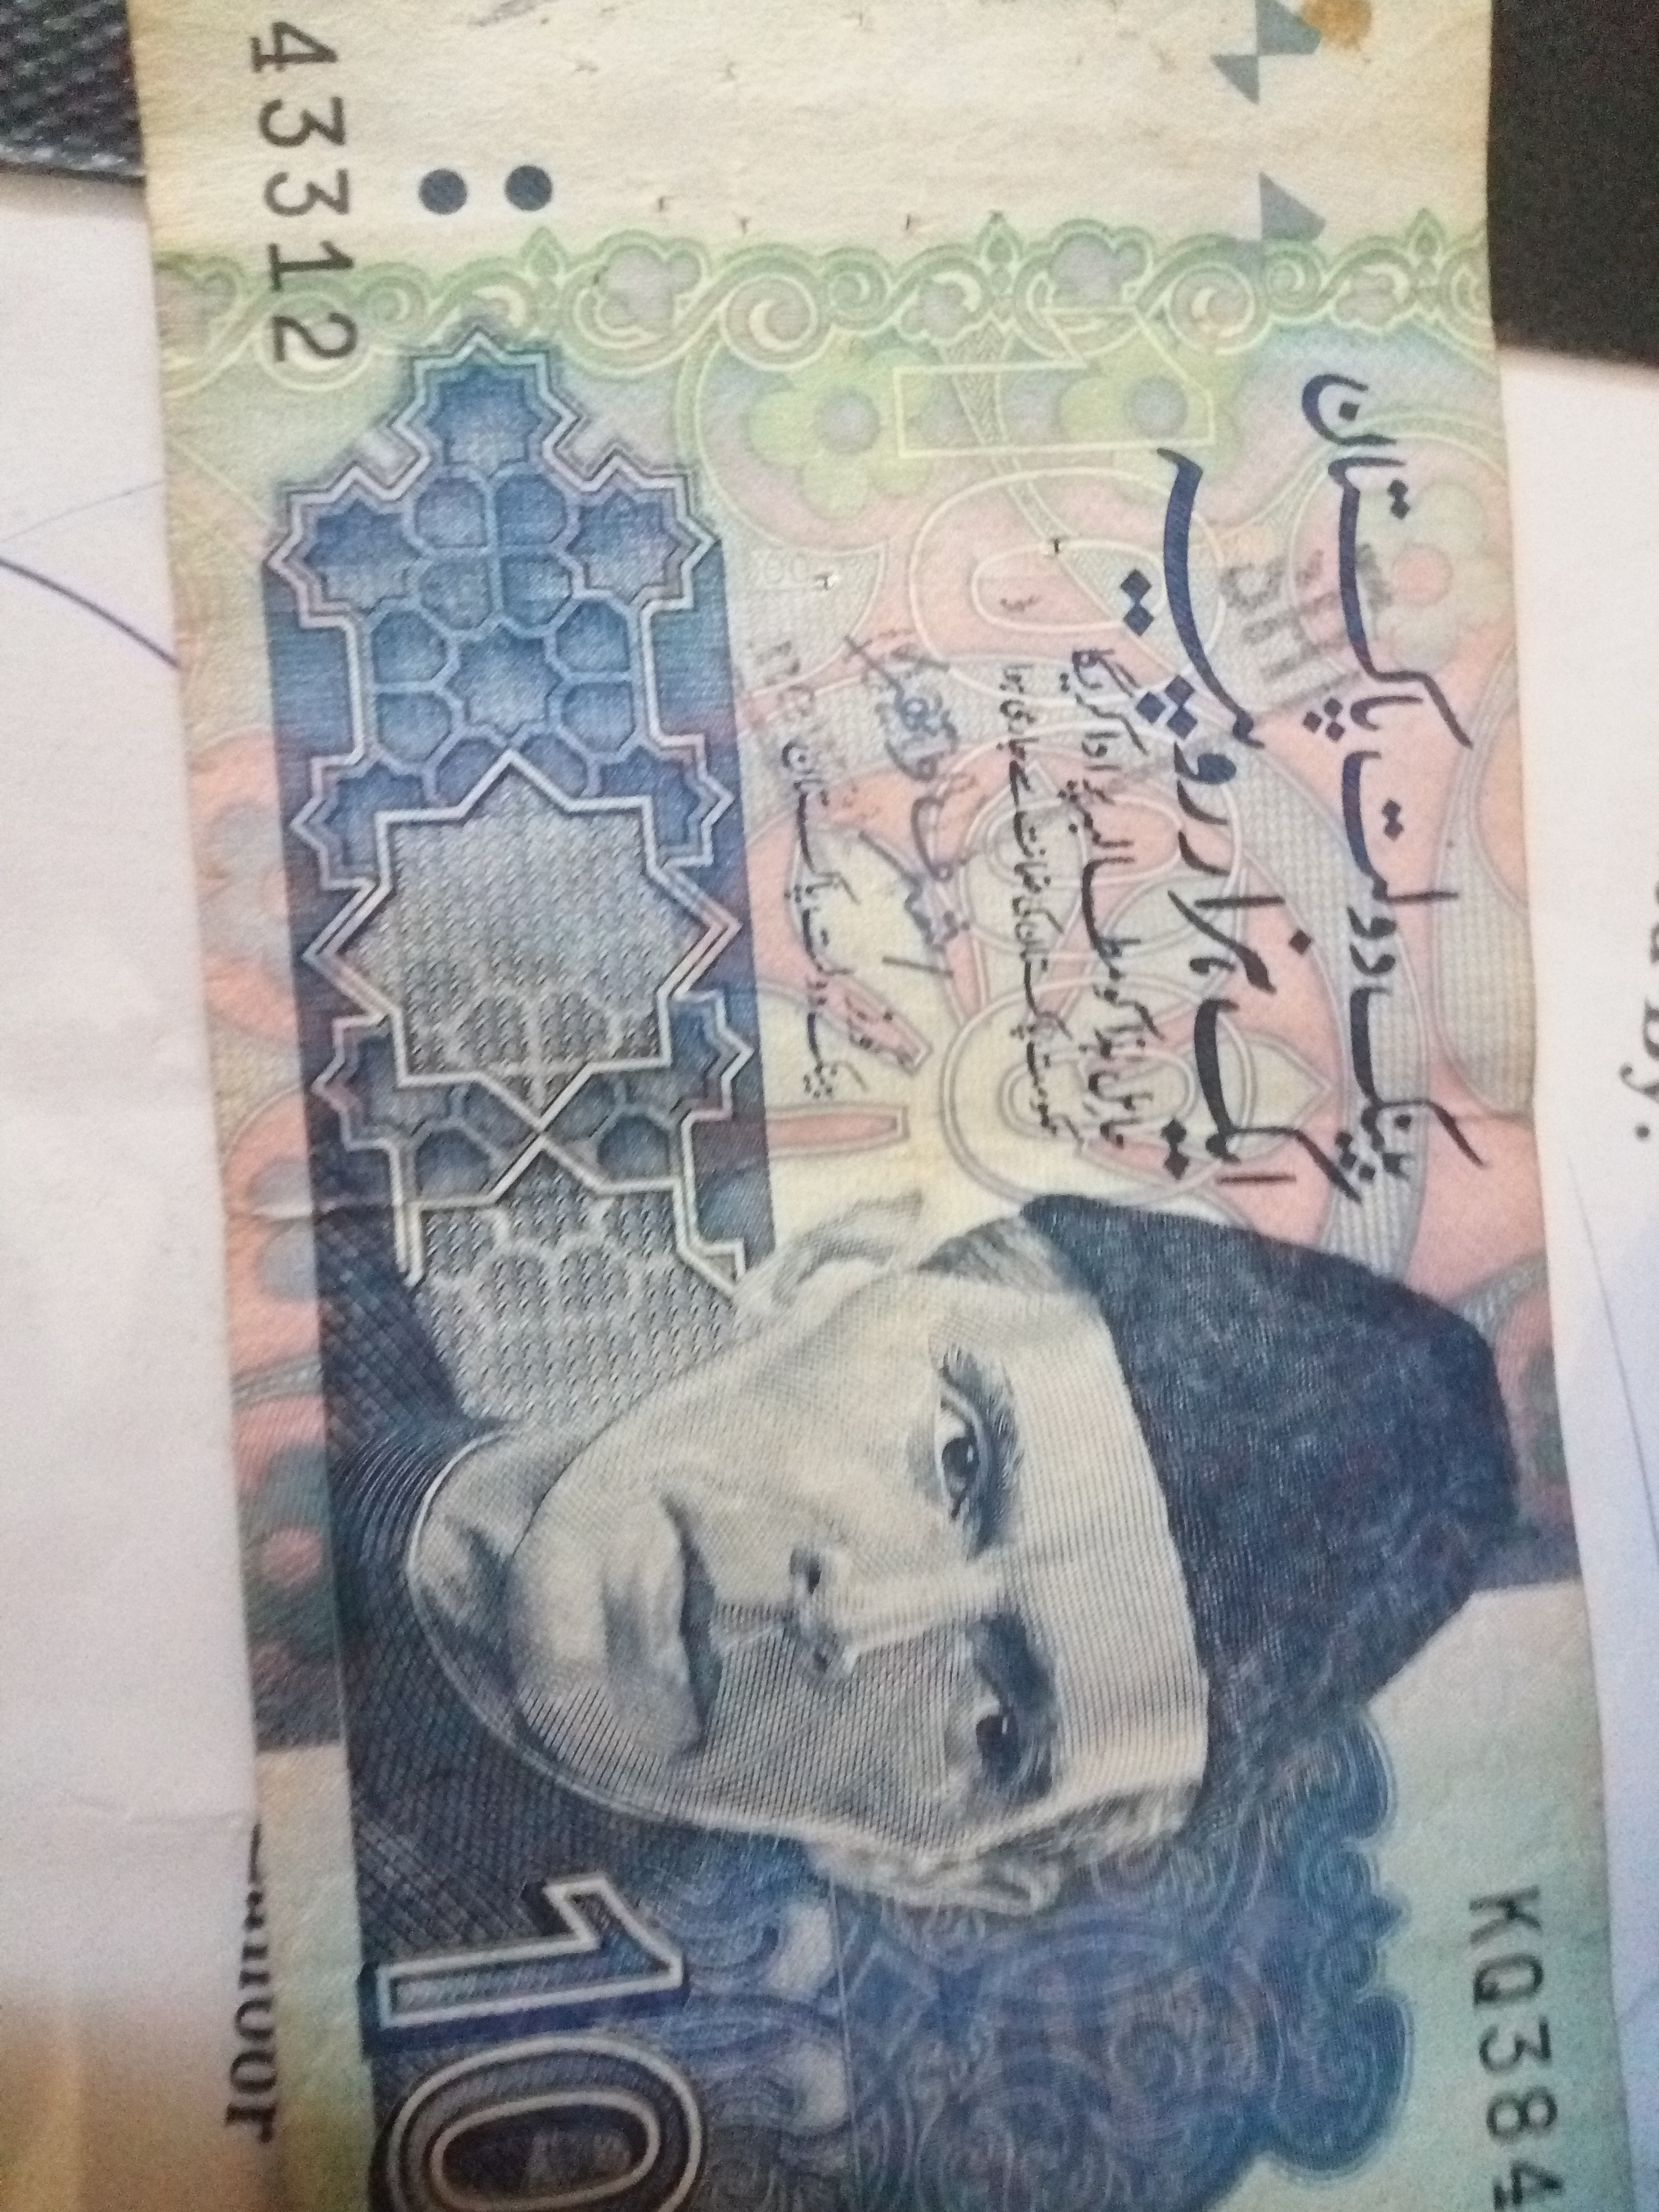1000 rupee: (82, 38, 1643, 2207)
